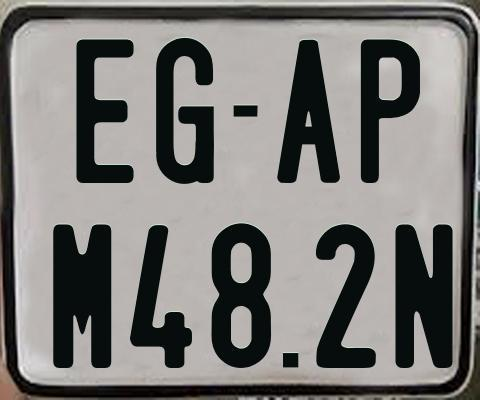2: (313, 223, 373, 372)
4: (127, 223, 192, 370)
8: (208, 222, 268, 372)
A: (275, 38, 342, 182)
E: (74, 38, 136, 185)
G: (155, 36, 213, 186)
M: (53, 221, 112, 368)
N: (395, 222, 455, 366)
P: (359, 39, 423, 185)
